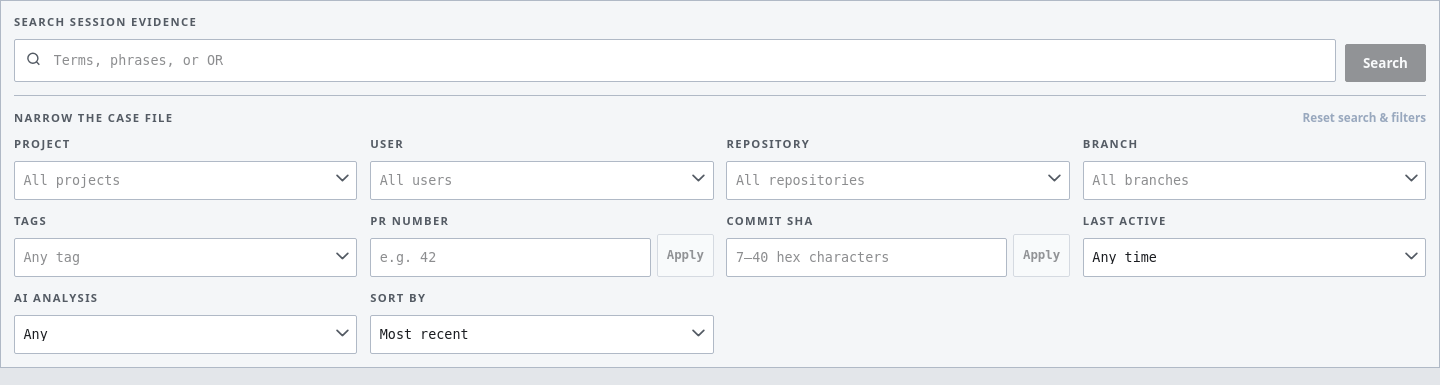
Scenario: Search stays inert until submitting it would change the results
This screenshot has width=1440, height=385.
Check: the button "Search" is disabled, box [1345, 44, 1426, 82]
Type "timeout" into the search field labelled "Search session evidence" at (675, 61), box [14, 39, 1336, 82]
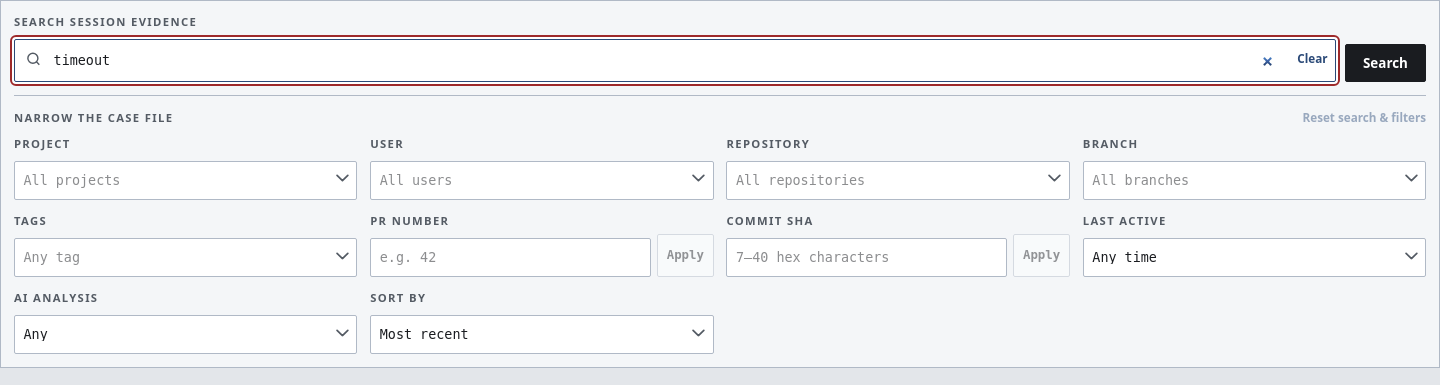
Check: the button "Search" is enabled, box [1345, 44, 1426, 82]
